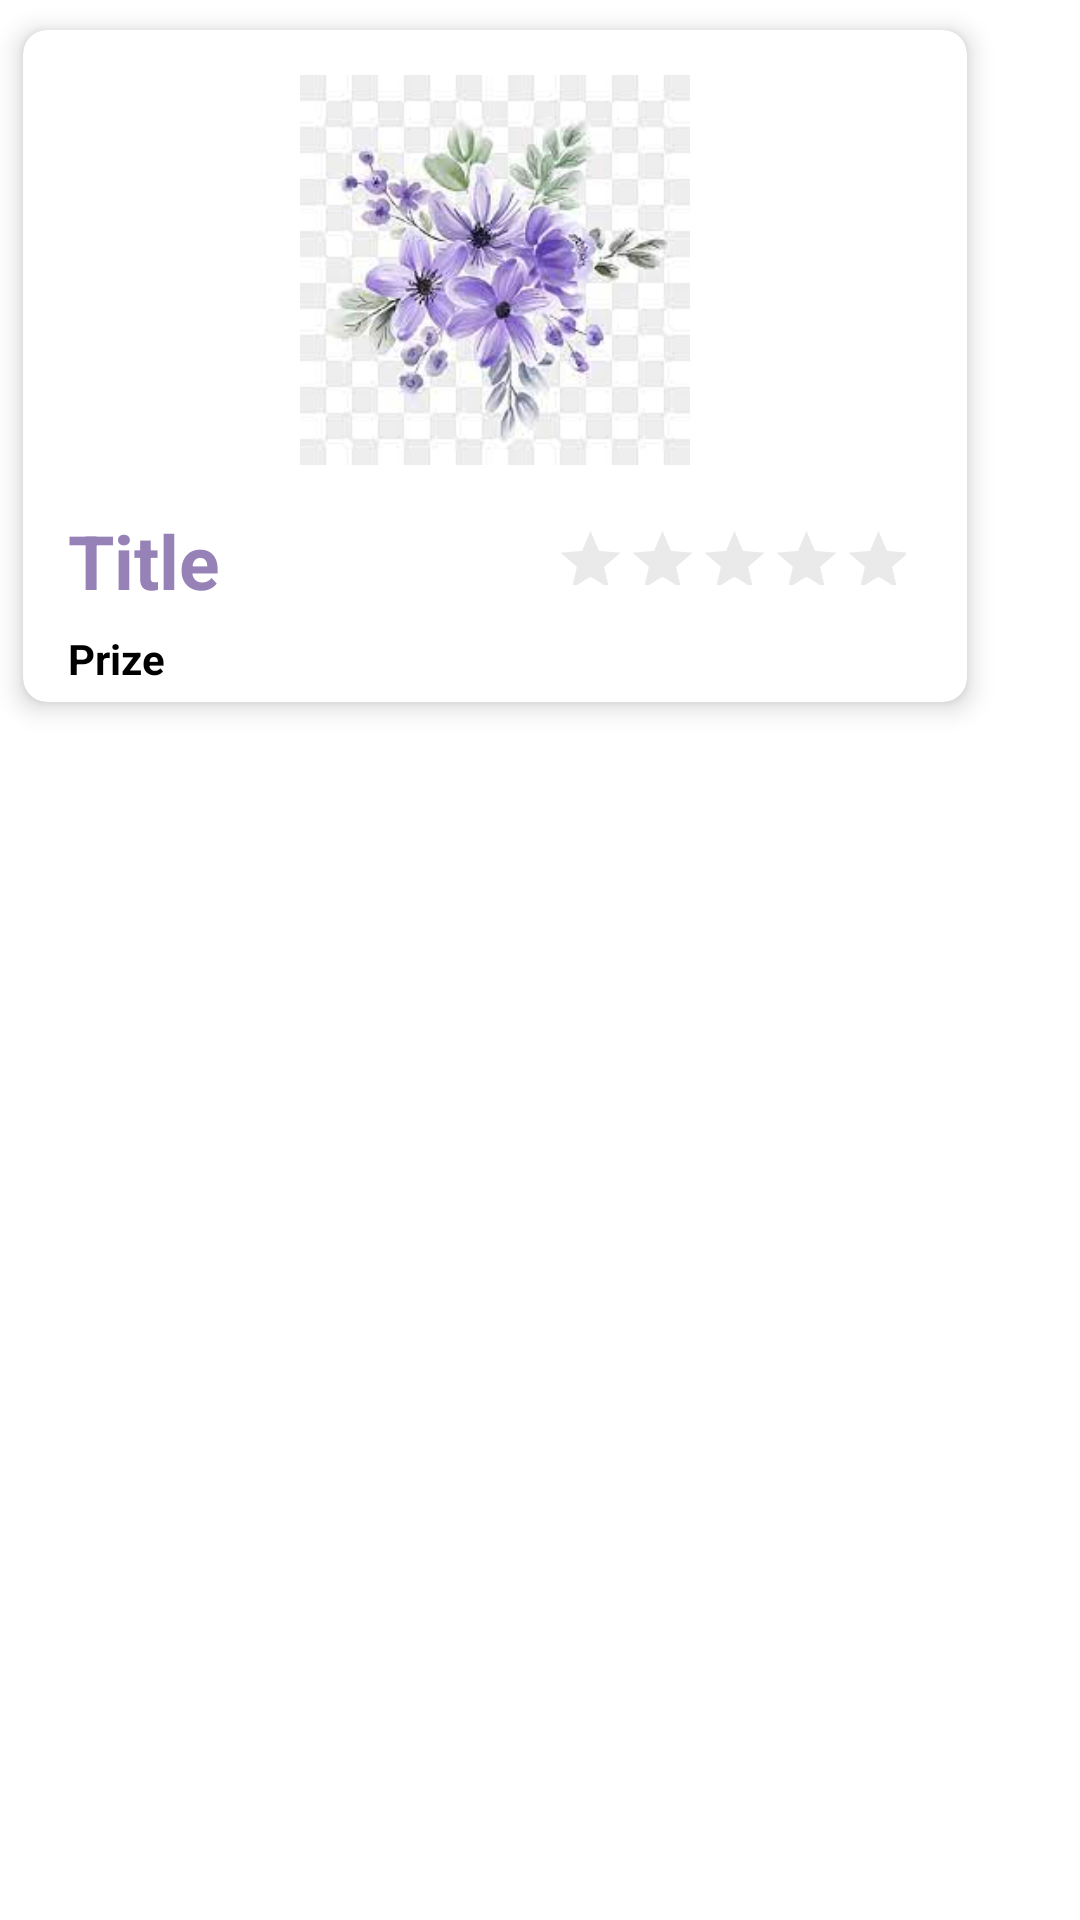

Icon bounding boxes for this 1080px×1920px phone screenshot, format (x1, y1, x2, y2):
flower: (323, 92, 674, 449)
